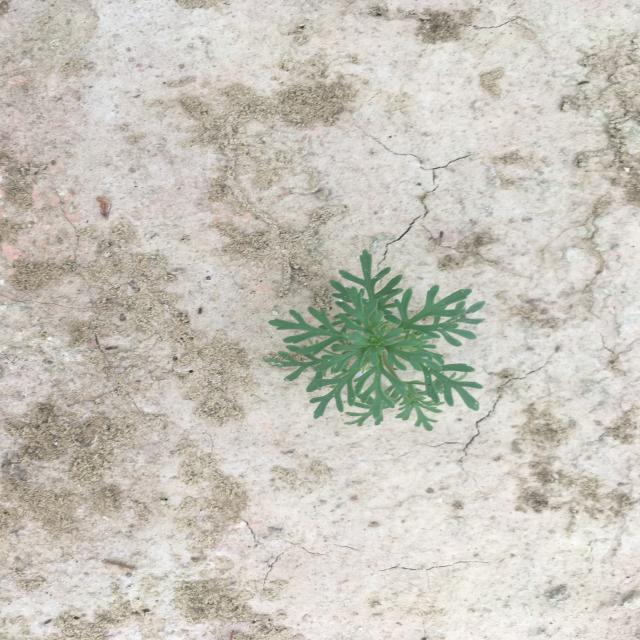Ragweed: (266, 248, 487, 432)
